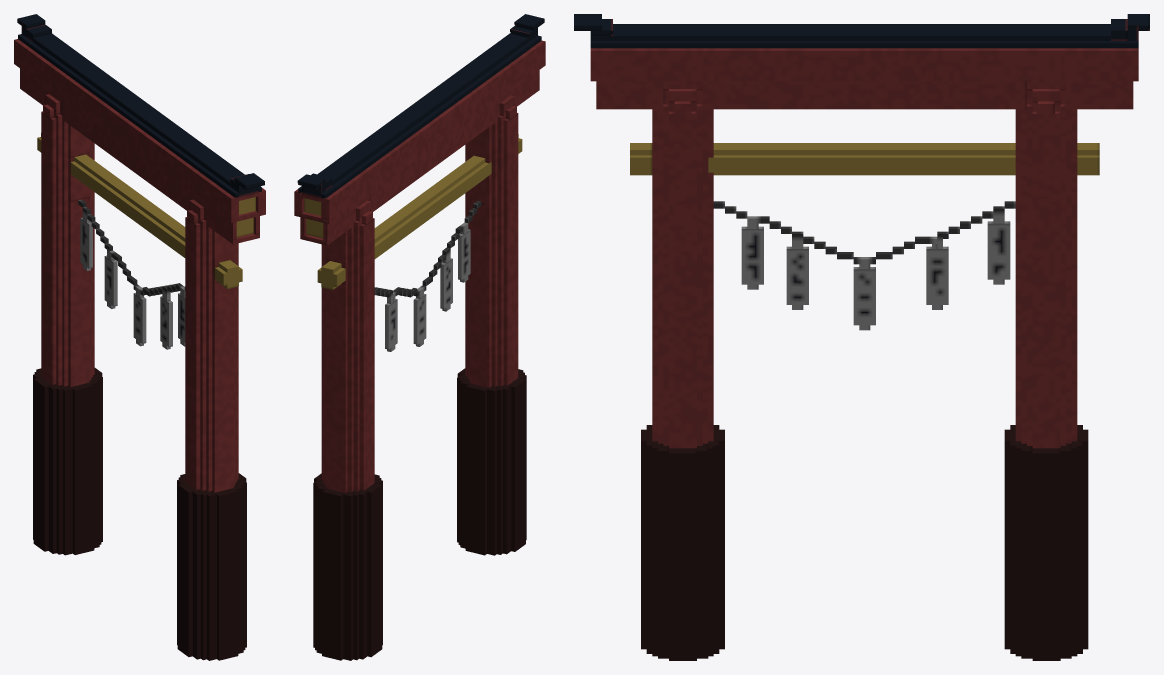
The model's file is ch_brama_tori.dae.
3 renders of one model, left to right at view 1: azimuth 30°, elevation 25°; view 2: azimuth 150°, elevation 25°; view 3: azimuth 270°, elevation 25°, orthographic. The views are drawn at different scales.
Parts seen in each view (by area): view 1: Content; view 2: Content; view 3: Content.
Boxes of the visible parts, x1=… form: Content: x1=14, y1=14, x2=265, y2=660; Content: x1=294, y1=14, x2=545, y2=660; Content: x1=574, y1=14, x2=1149, y2=660.
Size of the model in its own units: 15 by 123 by 103.
Materials: 1 (1 with a texture image).
